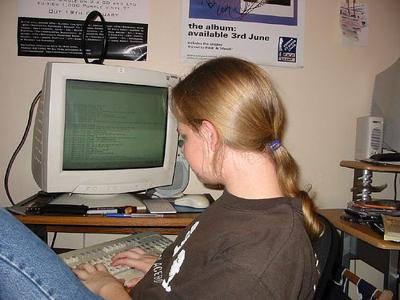person: (2, 58, 324, 300)
